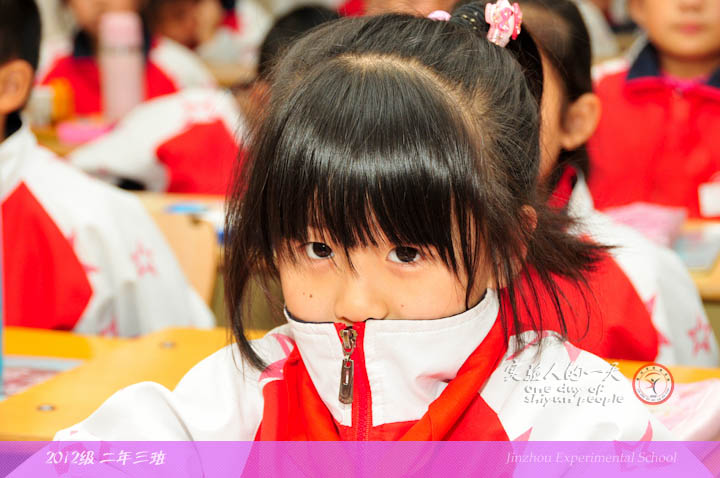face: (274, 160, 495, 398)
